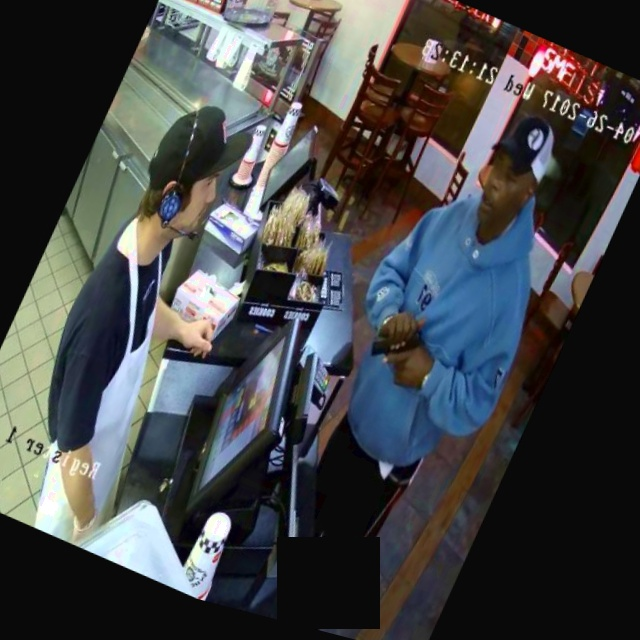gun: (351, 298, 448, 392)
